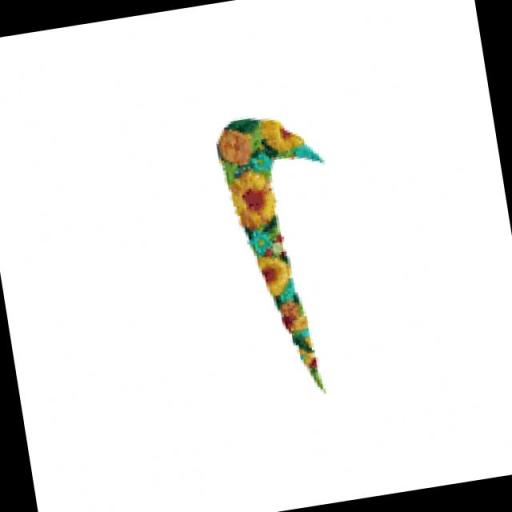Nike: (206, 97, 368, 408)
